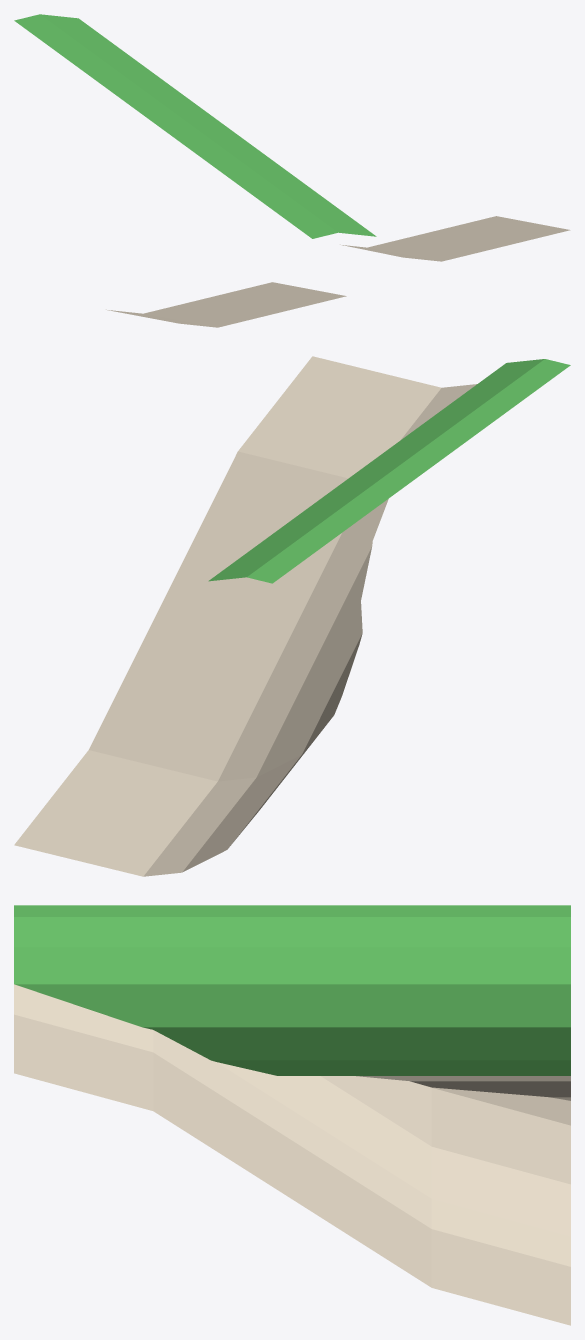
The model's file is Escarpment_Terrain_Hill_Crest_Top.glb.
3 views of the same model, one above another, from view 1: azimuth 30°, elevation 25°; view 2: azimuth 150°, elevation 25°; view 3: azimuth 270°, elevation 25° (orthographic). The views are drawn at different scales.
Parts seen in each view (by area): view 1: Escarpment_Terrain_Hill_Crest_Top; view 2: Escarpment_Terrain_Hill_Crest_Top; view 3: Escarpment_Terrain_Hill_Crest_Top.
Boxes of the visible parts, <box> form: Escarpment_Terrain_Hill_Crest_Top: <box>14,14,570,327</box>; Escarpment_Terrain_Hill_Crest_Top: <box>14,356,570,876</box>; Escarpment_Terrain_Hill_Crest_Top: <box>14,905,570,1325</box>.
Bounding box in the file's own units: 1 × 1.2 × 2.
